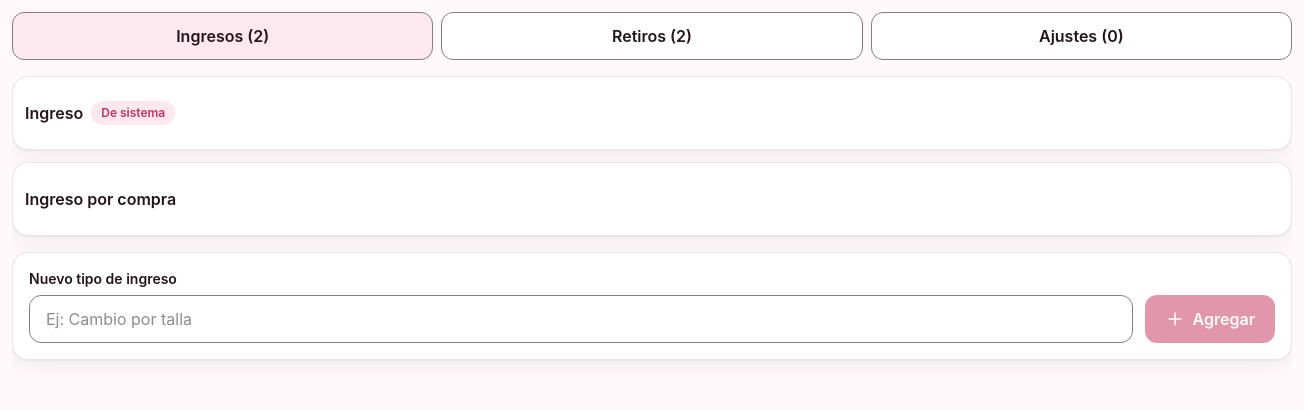
Test case: Tipos — un nombre inválido muestra el error junto al campo y conserva lo escrito
Expected: the text "Ingreso por compra" is shown, [25,187,176,211]
In the field labelled "Nuevo tipo de ingreso": (581, 319) [29,295,1133,343], type "abc"
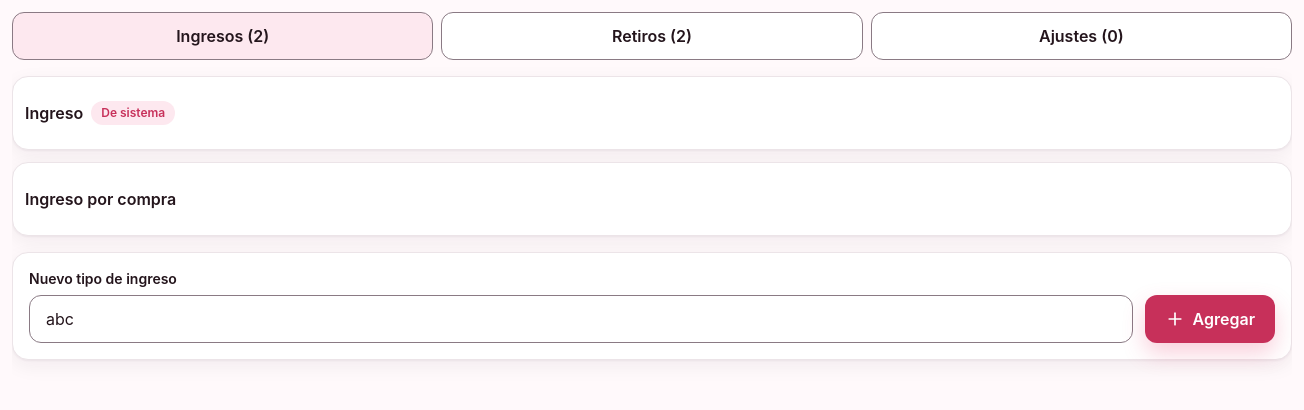
Click the button "Agregar": (1210, 319) [1145,295,1275,343]
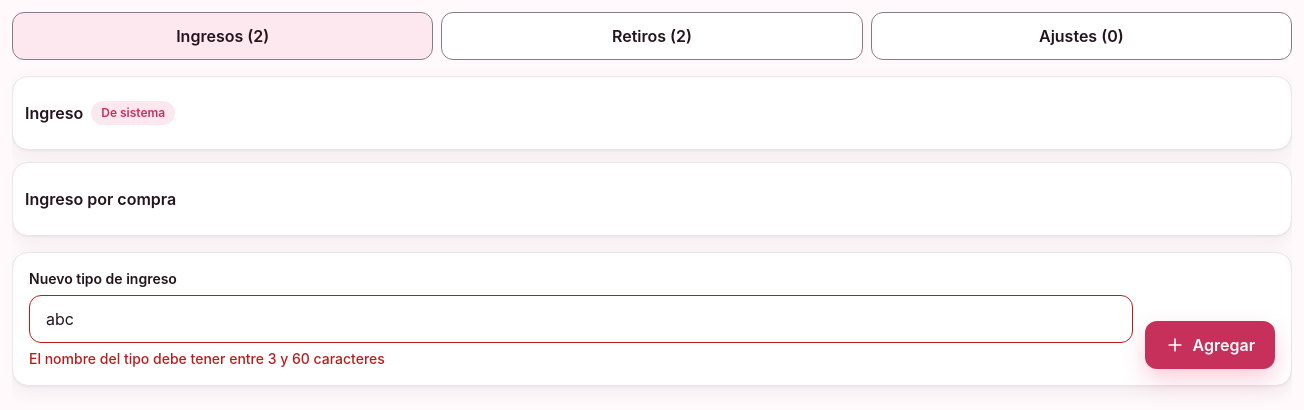
Expected: the message shows "entre 3 y 60", [29,350,385,367]
